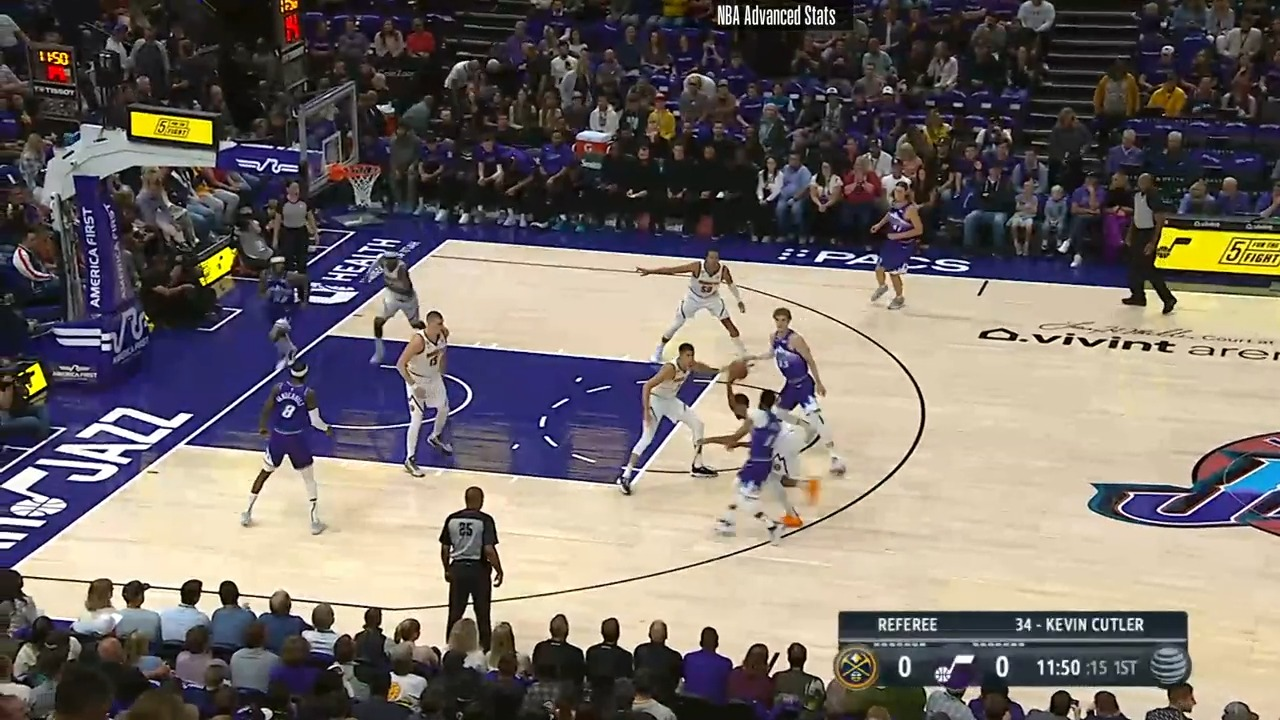net: (329, 159, 383, 209)
player: (626, 339, 742, 495), (753, 306, 850, 483), (246, 360, 339, 538), (708, 387, 808, 542), (651, 244, 754, 366), (397, 309, 456, 478), (360, 250, 424, 368), (866, 182, 921, 313), (256, 254, 309, 379)
referee: (436, 486, 507, 652), (1120, 173, 1178, 320), (271, 181, 319, 291)
